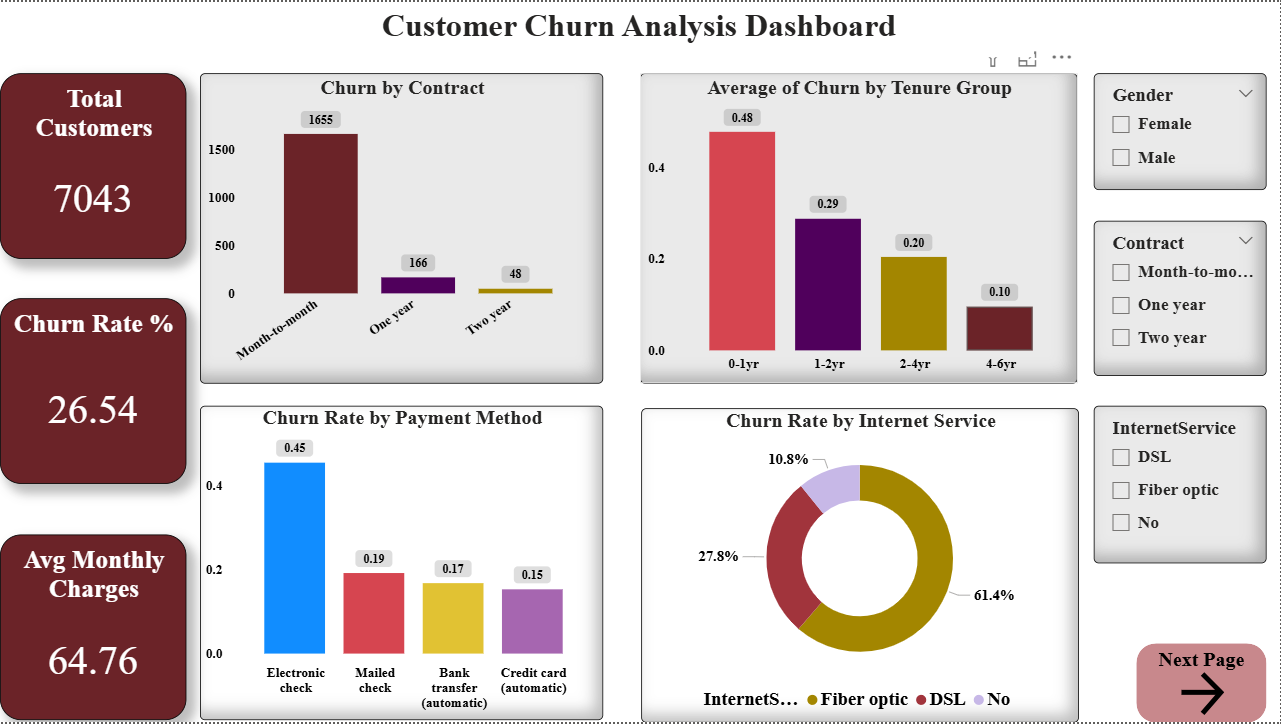

Layout of this report page (visuals, bound fields, positions):
{"tool":"powerbi","page":{"name":"Dashboard ","canvas":[1280,720],"ordinal":0},"visuals":[{"type":"card","title":"Total Customers","fields":{"Values":["Count(cleaned_churn_data.customerID)"]},"box":[0,71.4,186.6,185.2],"z":0},{"type":"card","title":"Churn Rate %","fields":{"Values":["cleaned_churn_data.Churn Rate"]},"box":[0,296.4,186.6,185.2],"z":1000},{"type":"card","title":"Avg Monthly Charges","fields":{"Values":["cleaned_churn_data.Avg Charges"]},"box":[0,532.4,186.6,185.2],"z":2000},{"type":"columnChart","title":"Churn by Contract","fields":{"Category":["cleaned_churn_data.Contract"],"Y":["Sum(cleaned_churn_data.Churn)"]},"box":[200.3,71.4,403.4,310.1],"z":3000},{"type":"columnChart","title":"Average of Churn by Tenure Group","fields":{"Category":["cleaned_churn_data.tenure_group"],"Y":["Avg(cleaned_churn_data.Churn)"]},"box":[639.5,71.4,437.7,310.1],"z":4000},{"type":"columnChart","title":"Churn Rate by Payment Method","fields":{"Category":["cleaned_churn_data.PaymentMethod"],"Y":["Avg(cleaned_churn_data.Churn)"]},"box":[200.3,403.4,403.4,314.2],"z":5000},{"type":"donutChart","title":"Churn Rate by Internet Service","fields":{"Category":["cleaned_churn_data.InternetService"],"Y":["Avg(cleaned_churn_data.Churn)"]},"box":[640.8,406.2,437.7,314.2],"z":6000},{"type":"slicer","fields":{"Values":["cleaned_churn_data.gender"]},"box":[1093.7,71.4,172.9,116.6],"z":7000},{"type":"slicer","fields":{"Values":["cleaned_churn_data.Contract"]},"box":[1093.7,218.2,172.9,155.1],"z":8000},{"type":"slicer","fields":{"Values":["cleaned_churn_data.InternetService"]},"box":[1093.7,403.4,172.9,157.8],"z":9000},{"type":"textbox","box":[244.3,0,790.4,54.9],"z":10000},{"type":"actionButton","box":[1136.2,640.8,130.4,79.6],"z":11000}]}

Visuals, with their boxes in screenshot pixels (x1, y1, x2, y2), scaled from the page's 1280x720 canvas onto the 1281x725 screenshot:
"Total Customers" card: {"x1": 0, "y1": 72, "x2": 187, "y2": 258}
"Churn Rate %" card: {"x1": 0, "y1": 298, "x2": 187, "y2": 485}
"Avg Monthly Charges" card: {"x1": 0, "y1": 536, "x2": 187, "y2": 723}
"Churn by Contract" columnChart: {"x1": 200, "y1": 72, "x2": 604, "y2": 384}
"Average of Churn by Tenure Group" columnChart: {"x1": 640, "y1": 72, "x2": 1078, "y2": 384}
"Churn Rate by Payment Method" columnChart: {"x1": 200, "y1": 406, "x2": 604, "y2": 723}
"Churn Rate by Internet Service" donutChart: {"x1": 641, "y1": 409, "x2": 1079, "y2": 724}
slicer - cleaned_churn_data.gender: {"x1": 1095, "y1": 72, "x2": 1268, "y2": 189}
slicer - cleaned_churn_data.Contract: {"x1": 1095, "y1": 220, "x2": 1268, "y2": 376}
slicer - cleaned_churn_data.InternetService: {"x1": 1095, "y1": 406, "x2": 1268, "y2": 565}
textbox: {"x1": 244, "y1": 0, "x2": 1036, "y2": 55}
actionButton: {"x1": 1137, "y1": 645, "x2": 1268, "y2": 724}
